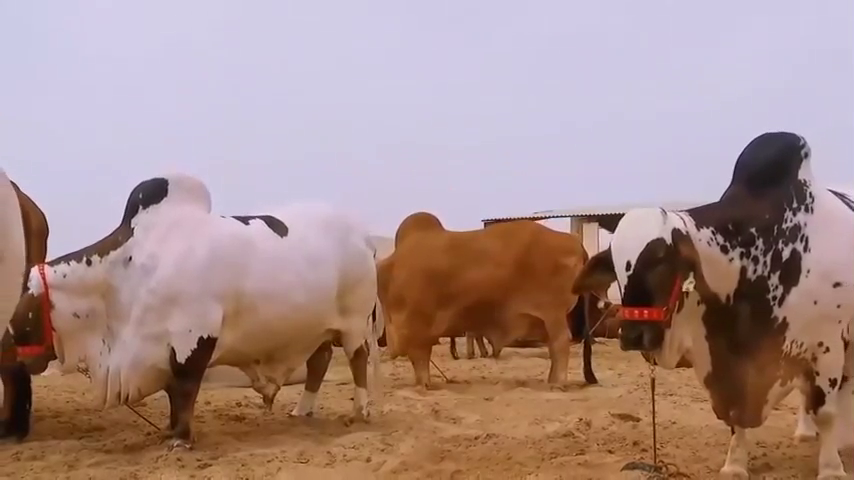bo: (21, 168, 385, 457), (569, 117, 850, 477), (368, 204, 598, 393)
